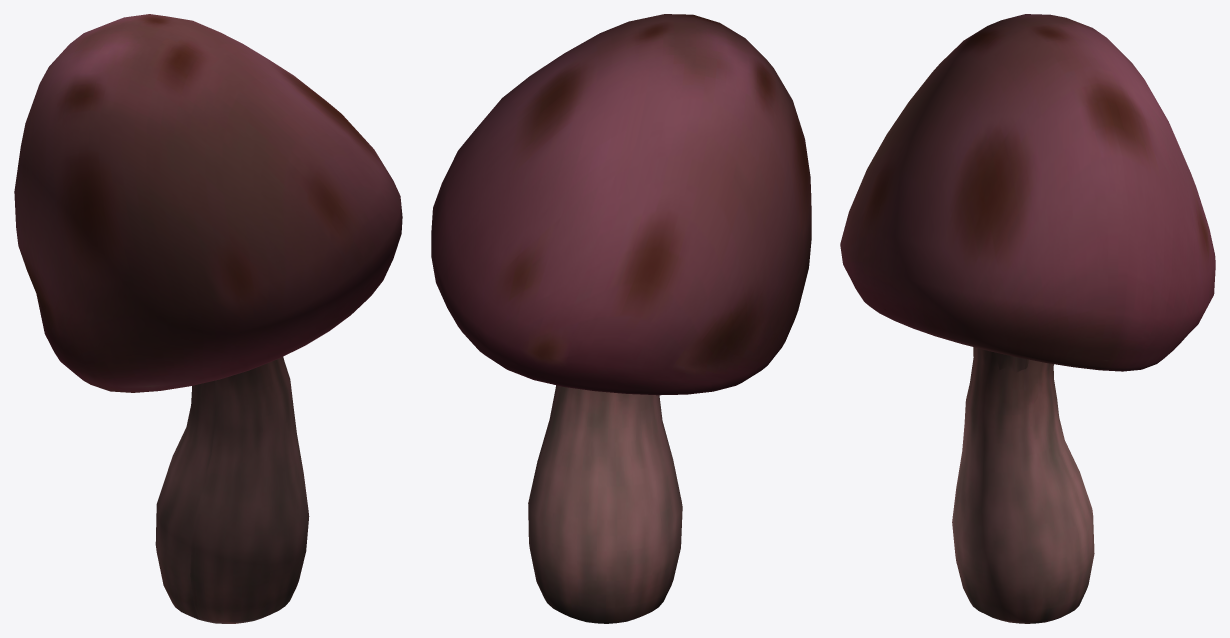
File: mushroom140.dae
The picture shows the model from 3 angles, left to right: view 1: azimuth 30°, elevation 25°; view 2: azimuth 150°, elevation 25°; view 3: azimuth 270°, elevation 25°; orthographic projection. The views are drawn at different scales.
Visible parts, largest first — view 1: Mushroom_resting2; view 2: Mushroom_resting2; view 3: Mushroom_resting2.
Boxes of the visible parts, x1=… form: Mushroom_resting2: x1=14, y1=14, x2=402, y2=623; Mushroom_resting2: x1=431, y1=14, x2=811, y2=623; Mushroom_resting2: x1=840, y1=14, x2=1215, y2=623.
Size of the model in its own units: 0.5854 by 1.01 by 0.6223.
Materials: 1 (1 with a texture image).
